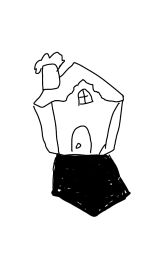closed_window: (73, 84, 95, 109)
door: (69, 118, 94, 157)
roof: (30, 58, 127, 112)
shadow: (43, 155, 140, 220)
smoking_chimney: (30, 40, 67, 90)
wall: (31, 93, 126, 160)
